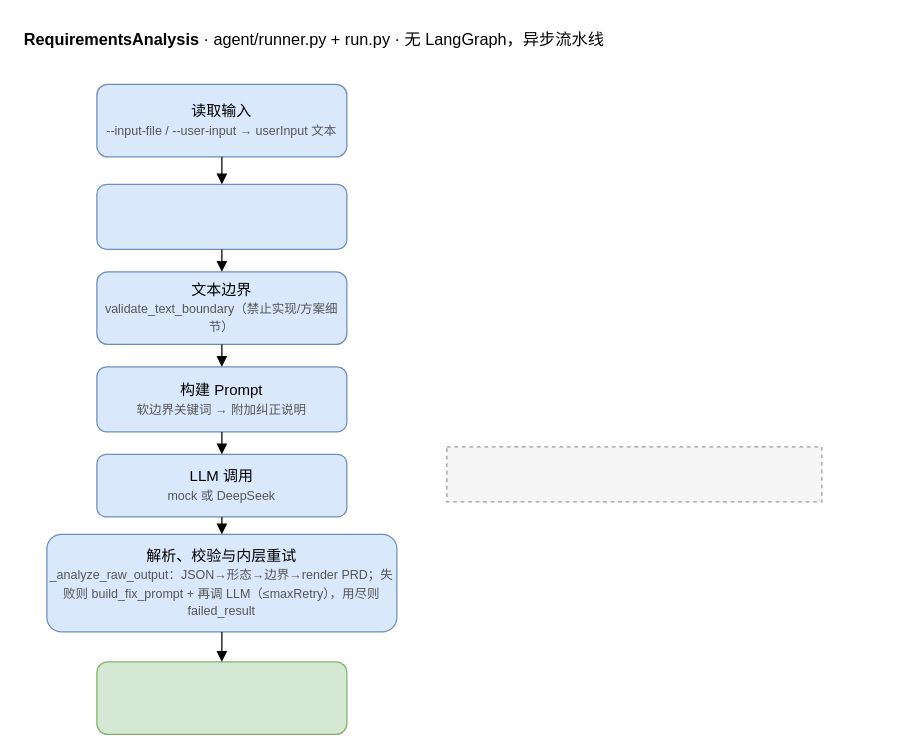
This 918x756 diagram has some shape labels left out. The centre of each missing label's shape, as x and y in pixels:
"run.py：落盘调试产物 write_local_debug_artifacts：input.txt、spec、prd、report.json" belongs at (x=221, y=697).
"说明：LLM↔解析 的循环在 run_requirement_analysis 内完成，不单独暴露为 LangGraph 节点" belongs at (x=634, y=474).
"输入校验 validate_requirement_input" belongs at (x=221, y=216).
